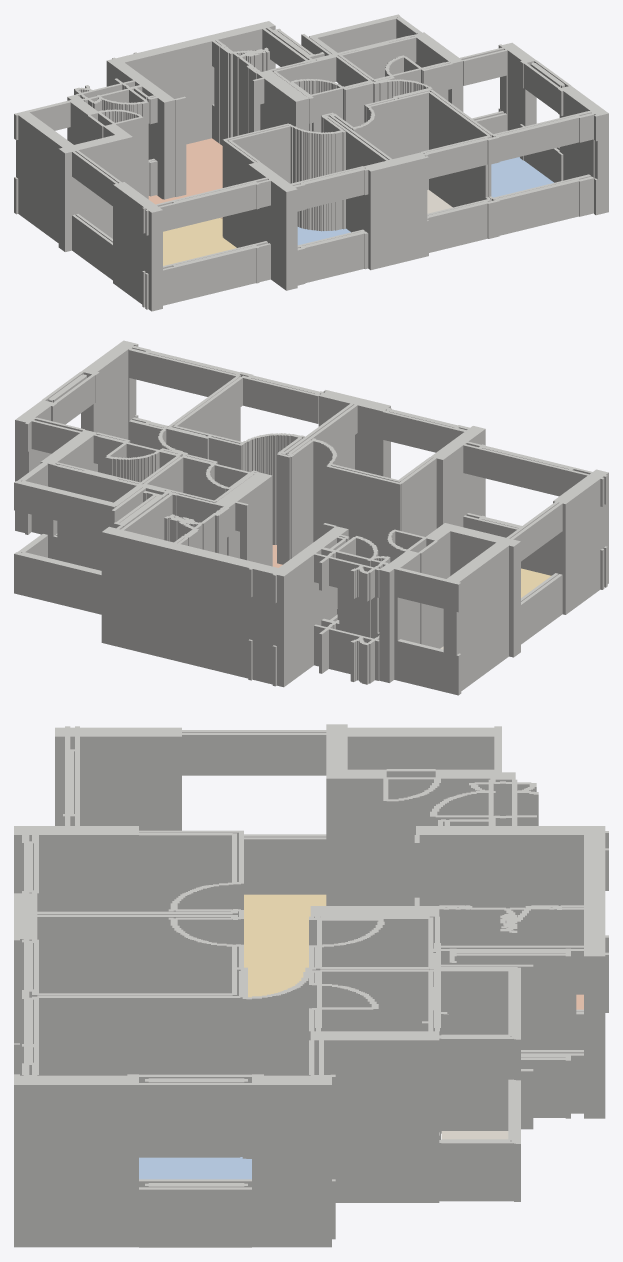
3 renders of one model, top to bottom at view 1: azimuth 30°, elevation 25°; view 2: azimuth 150°, elevation 25°; view 3: azimuth 270°, elevation 25°, orthographic. The views are drawn at different scales.
Visible parts, largest first — view 1: walls, room:living:2, room:kitchen:0, room:bedroom:3, room:bedroom:4; view 2: walls, room:living:2; view 3: walls, room:living:2, room:bedroom:3.
Boxes of the visible parts, bbox=[...] form: walls: bbox=[14, 14, 608, 311]; room:living:2: bbox=[163, 218, 236, 265]; room:kitchen:0: bbox=[148, 138, 222, 218]; room:bedroom:3: bbox=[491, 157, 553, 197]; room:bedroom:4: bbox=[297, 227, 350, 245]; walls: bbox=[14, 340, 608, 695]; room:living:2: bbox=[521, 568, 551, 597]; walls: bbox=[14, 724, 608, 1247]; room:living:2: bbox=[244, 894, 326, 997]; room:bedroom:3: bbox=[139, 1157, 251, 1179].
Size of the model in its own units: 13.33 by 2.8 by 9.29.
